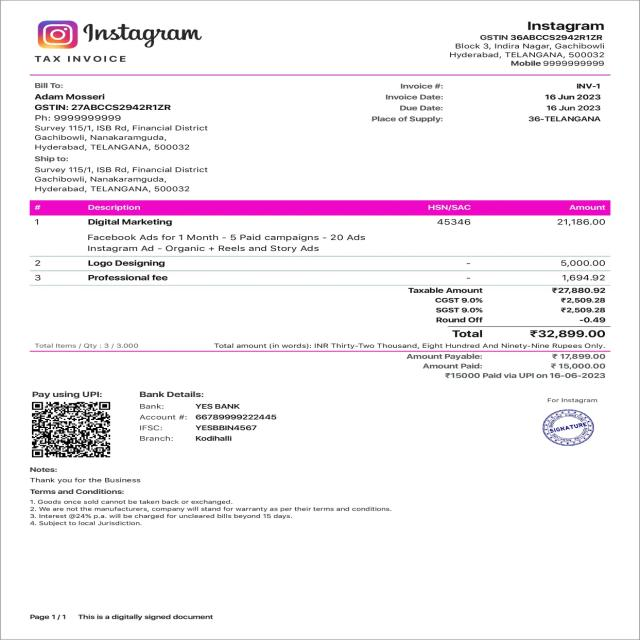QRCode: (28, 398, 114, 460)
